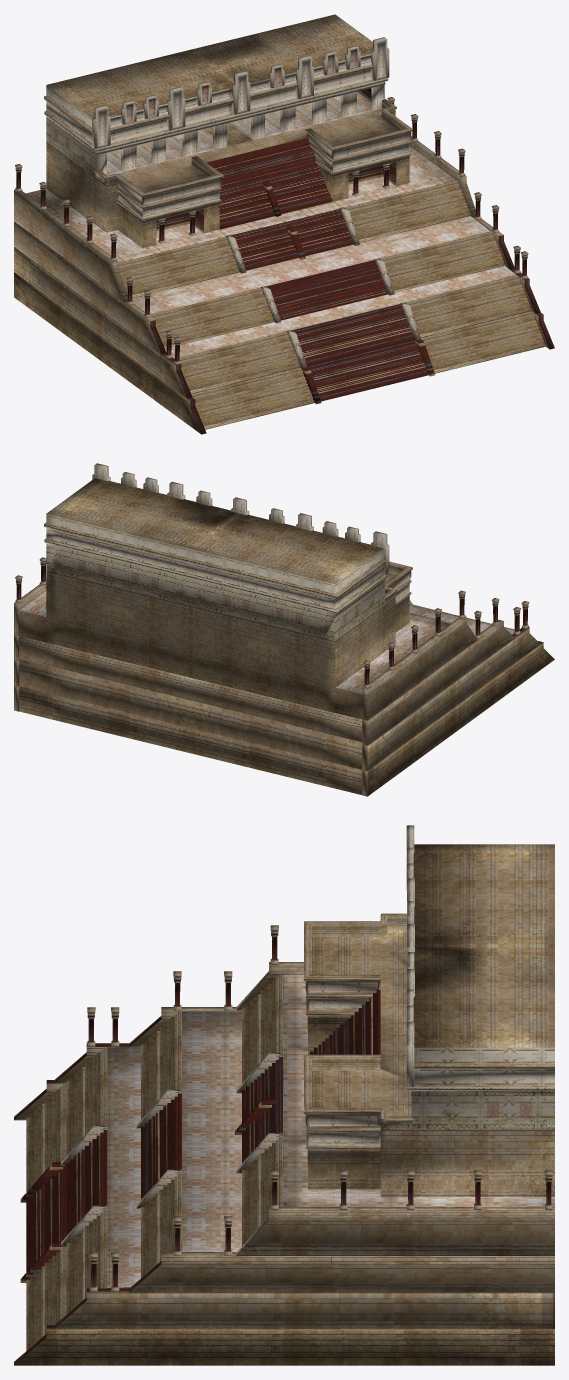
Rendered from temple 2.dae.
The picture shows the model from 3 angles, top to bottom: view 1: azimuth 30°, elevation 25°; view 2: azimuth 150°, elevation 25°; view 3: azimuth 270°, elevation 25°; orthographic projection. The views are drawn at different scales.
Parts seen in each view (by area): view 1: meshU3D; view 2: meshU3D; view 3: meshU3D.
Part boxes in pixels (left/top/right/bottom): meshU3D: left=14, top=14, right=554, bottom=434; meshU3D: left=14, top=463, right=554, bottom=796; meshU3D: left=14, top=825, right=554, bottom=1365.
Bounding box in the file's own units: 1289 × 758 × 1184.
